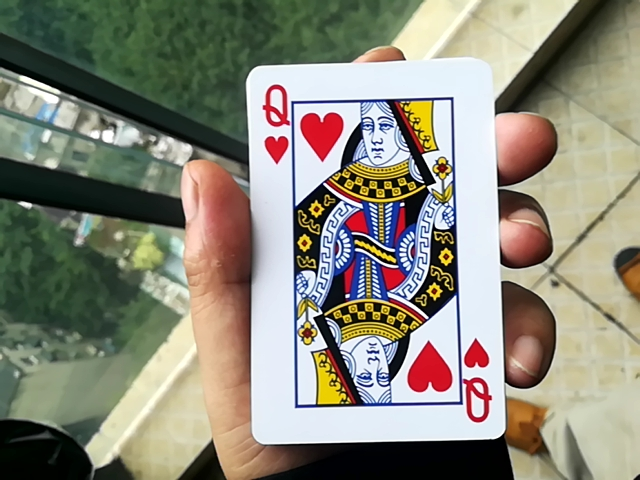hx q: (232, 50, 509, 446)
